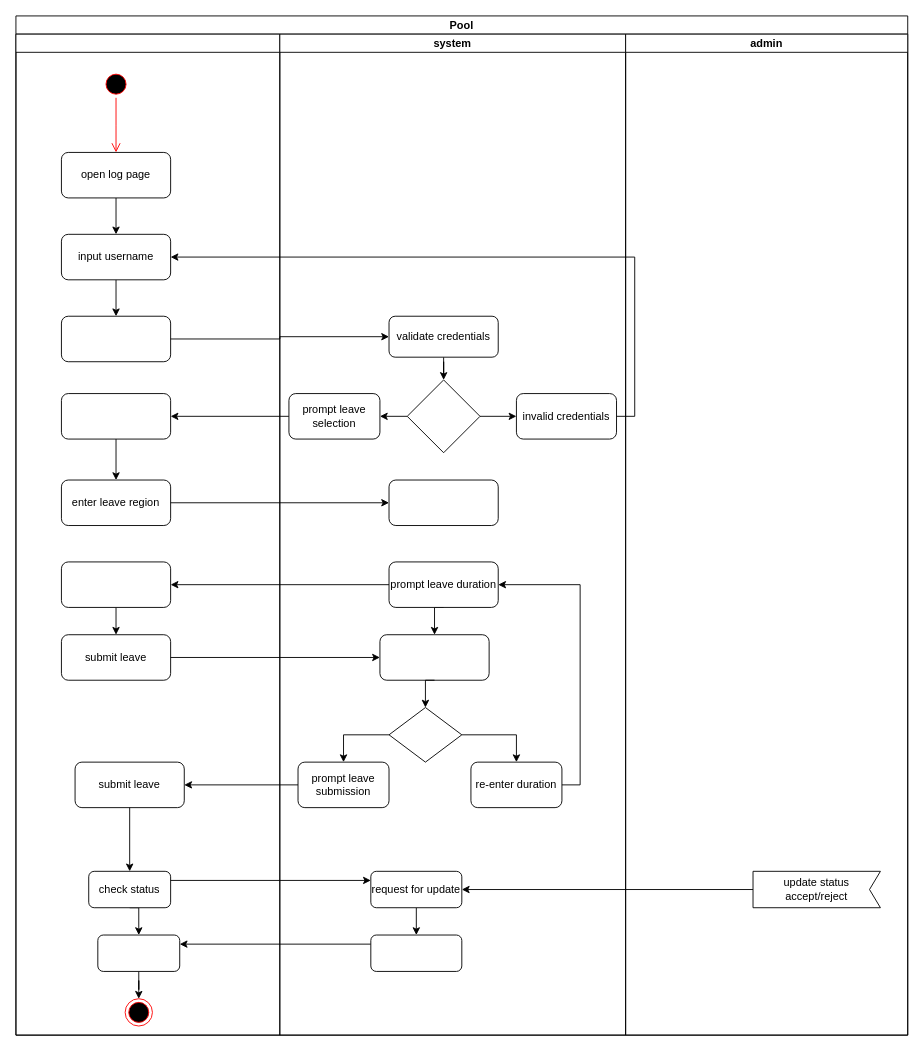
Some shapes in this 924 by 1051 pixel diagram are drawn without their labels. Each missing label, with the box of its shape:
choose leave: (61, 393, 171, 439)
enter leave duration: (61, 561, 171, 607)
input password: (61, 315, 171, 362)
staff: (15, 33, 280, 1035)
store leave reason: (388, 479, 498, 526)
update status: (370, 934, 462, 971)
validate leave duration: (379, 634, 489, 680)
view status: (97, 934, 180, 971)
